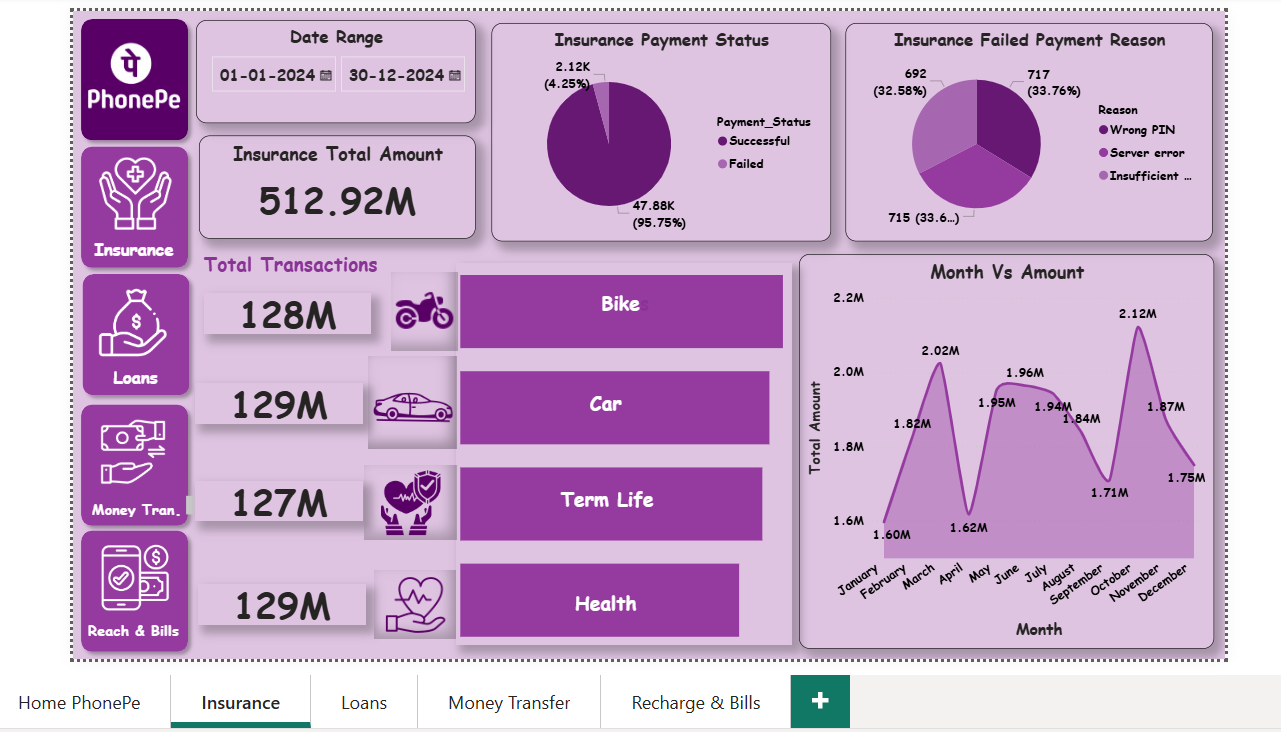

This screenshot's page, from the dashboard's own definition file:
{"tool":"powerbi","page":{"name":"Insurance","canvas":[1280,720],"ordinal":1},"visuals":[{"type":"shape","box":[0,0,136.8,152.7],"z":0,"group":"g2"},{"type":"slicer","title":"Date Range","fields":{"Values":["Insurance.Date"]},"box":[136,9.7,310.9,115],"z":0},{"type":"shape","box":[0,141.6,136.8,152.7],"z":0,"group":"g1"},{"type":"shape","box":[1.6,283.1,136.8,152.7],"z":0,"group":"g3"},{"type":"shape","box":[0,427.9,136.8,152.7],"z":0,"group":"g4"},{"type":"shape","box":[0,567.8,136.8,152.7],"z":0,"group":"g5"},{"type":"image","box":[6.4,12.7,120.9,122.5],"z":5,"group":"g2"},{"type":"card","title":"Insurance Total Amount","fields":{"Values":["Sum(Insurance.Premium)"]},"box":[139.3,137.6,307.7,115],"z":1000},{"type":"image","box":[14.3,147.9,108.2,108.2],"z":1000,"group":"g1"},{"type":"image","box":[20.7,295.9,95.4,97],"z":1000,"group":"g3"},{"type":"image","box":[19.1,443.8,97,89.1],"z":1000,"group":"g4"},{"type":"image","box":[17.5,580.5,105,95.4],"z":1000,"group":"g5"},{"type":"textbox","box":[4.8,246.5,125.7,36.6],"z":2000,"group":"g1"},{"type":"textbox","box":[8,388.1,122.5,39.8],"z":2000,"group":"g3"},{"type":"textbox","box":[11.1,532.9,127.2,33.4],"z":2000,"group":"g4"},{"type":"textbox","box":[8,671.2,117.7,49.3],"z":2000,"group":"g5"},{"type":"group","id":"g1","title":"Group 2","box":[0,0,136.8,294.3],"z":3000,"group":"g3"},{"type":"group","id":"g2","title":"Group 1","box":[0,0,136.8,152.7],"z":3000,"group":"g1"},{"type":"pieChart","title":"Insurance Failed Payment Reason","fields":{"Category":["Insurance.Reason"],"Y":["CountNonNull(Insurance.Reason)"]},"box":[858.2,13,408,242.9],"z":5000},{"type":"areaChart","title":"Month Vs Amount","fields":{"Category":["Insurance.Date.Variation.Date Hierarchy.Month"],"Y":["Sum(Insurance.Premium)"]},"box":[806.4,270.4,461.5,438.8],"z":6000},{"type":"group","id":"g3","title":"Group 3","box":[0,0,138.4,435.8],"z":8000},{"type":"group","id":"g4","title":"Group 4","box":[0,427.9,138.4,152.7],"z":9000},{"type":"group","id":"g5","title":"Group 5","box":[0,567.8,136.8,152.7],"z":10000},{"type":"actionButton","box":[9.7,8.1,119.8,136],"z":11000},{"type":"actionButton","box":[8.1,147.3,123.1,140.9],"z":12000},{"type":"actionButton","box":[11.3,291.5,119.8,136],"z":13000},{"type":"actionButton","box":[11.3,437.2,119.8,131.2],"z":14000},{"type":"actionButton","box":[9.7,574.8,119.8,136],"z":15000},{"type":"pieChart","title":"Insurance Payment Status","fields":{"Category":["Insurance.Payment_Status"],"Y":["CountNonNull(Insurance.Payment_Status)"]},"box":[464.7,13,377.3,242.9],"z":15001},{"type":"clusteredBarChart","title":"Date Vs Amount","fields":{"Y":["Sum(Insurance.Premium)"],"Category":["Insurance.Insurance_Type"]},"box":[424.2,280.1,374,424.2],"z":15002},{"type":"image","box":[323.8,505.2,103.6,82.6],"z":15003},{"type":"image","box":[335.2,621.8,90.7,76.1],"z":15004},{"type":"image","box":[328.7,383.8,98.8,103.6],"z":15005},{"type":"image","box":[353,289.8,74.5,87.4],"z":15006},{"type":"textbox","box":[138.8,260.4,207.2,62.7],"z":15007},{"type":"card","title":"Total Amount","fields":{"Values":["Sum(Insurance.Premium)"]},"box":[145.7,314.1,186.2,45.3],"z":15008},{"type":"card","title":"Total Amount","fields":{"Values":["Sum(Insurance.Premium)"]},"box":[134.2,413.9,187.1,45.4],"z":15009},{"type":"card","title":"Total Amount","fields":{"Values":["Sum(Insurance.Premium)"]},"box":[134.2,521.6,187.1,45.4],"z":15010},{"type":"card","title":"Total Amount","fields":{"Values":["Sum(Insurance.Premium)"]},"box":[138,636.9,187.1,45.4],"z":15011},{"type":"textbox","box":[488.6,636.8,207.2,62.7],"z":15012},{"type":"textbox","box":[490.5,520.9,207.2,62.7],"z":15013},{"type":"textbox","box":[488.6,414.4,207.2,62.7],"z":15014},{"type":"textbox","box":[509.5,304.2,207.2,62.7],"z":15015}]}

Visuals, with their boxes on the page's 1280x720 design canvas (x1, y1, x2, y2). These are canvas units, not pixel positions in the 1281x732 screenshot, which may show the page scaled, cropped or inside an application window:
shape: l=0, t=0, r=137, b=153
"Date Range" slicer: l=136, t=10, r=447, b=125
shape: l=0, t=142, r=137, b=294
shape: l=2, t=283, r=138, b=436
shape: l=0, t=428, r=137, b=581
shape: l=0, t=568, r=137, b=720
image: l=6, t=13, r=127, b=135
"Insurance Total Amount" card: l=139, t=138, r=447, b=253
image: l=14, t=148, r=122, b=256
image: l=21, t=296, r=116, b=393
image: l=19, t=444, r=116, b=533
image: l=18, t=580, r=122, b=676
textbox: l=5, t=246, r=130, b=283
textbox: l=8, t=388, r=130, b=428
textbox: l=11, t=533, r=138, b=566
textbox: l=8, t=671, r=126, b=720
"Group 2" group: l=0, t=0, r=137, b=294
"Group 1" group: l=0, t=0, r=137, b=153
"Insurance Failed Payment Reason" pieChart: l=858, t=13, r=1266, b=256
"Month Vs Amount" areaChart: l=806, t=270, r=1268, b=709
"Group 3" group: l=0, t=0, r=138, b=436
"Group 4" group: l=0, t=428, r=138, b=581
"Group 5" group: l=0, t=568, r=137, b=720
actionButton: l=10, t=8, r=130, b=144
actionButton: l=8, t=147, r=131, b=288
actionButton: l=11, t=292, r=131, b=428
actionButton: l=11, t=437, r=131, b=568
actionButton: l=10, t=575, r=130, b=711
"Insurance Payment Status" pieChart: l=465, t=13, r=842, b=256
"Date Vs Amount" clusteredBarChart: l=424, t=280, r=798, b=704
image: l=324, t=505, r=427, b=588
image: l=335, t=622, r=426, b=698
image: l=329, t=384, r=428, b=487
image: l=353, t=290, r=428, b=377
textbox: l=139, t=260, r=346, b=323
"Total Amount" card: l=146, t=314, r=332, b=359
"Total Amount" card: l=134, t=414, r=321, b=459
"Total Amount" card: l=134, t=522, r=321, b=567
"Total Amount" card: l=138, t=637, r=325, b=682
textbox: l=489, t=637, r=696, b=700
textbox: l=490, t=521, r=698, b=584
textbox: l=489, t=414, r=696, b=477
textbox: l=510, t=304, r=717, b=367
